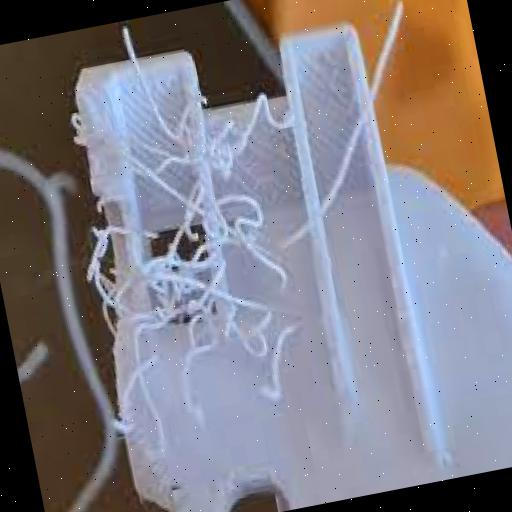spaghetti: (1, 70, 345, 434)
